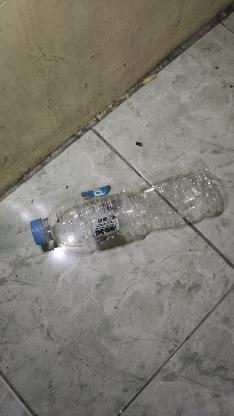Plastic Bottle: (27, 158, 234, 252)
